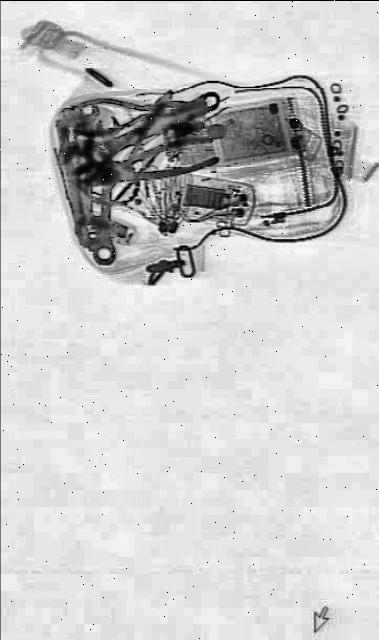Pliers: (88, 134, 217, 196)
Wrench: (60, 80, 220, 184), (90, 114, 118, 266), (72, 103, 100, 240)
